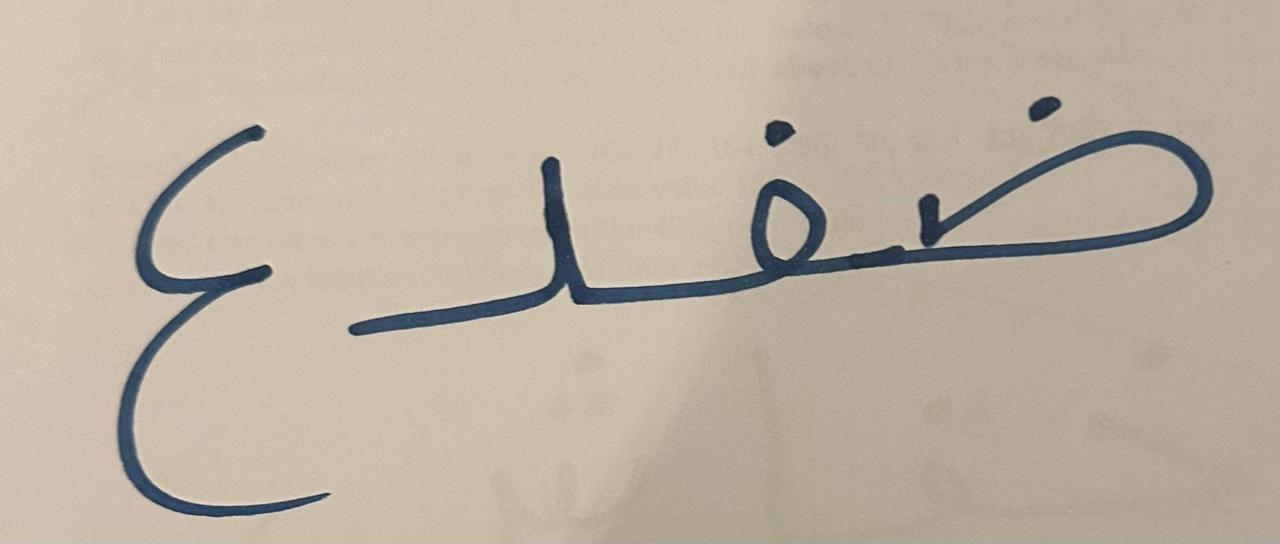dad: (42, 36, 328, 528)
khah: (879, 29, 1247, 328)
qaf: (332, 43, 635, 374)
sheen: (642, 43, 870, 354)
